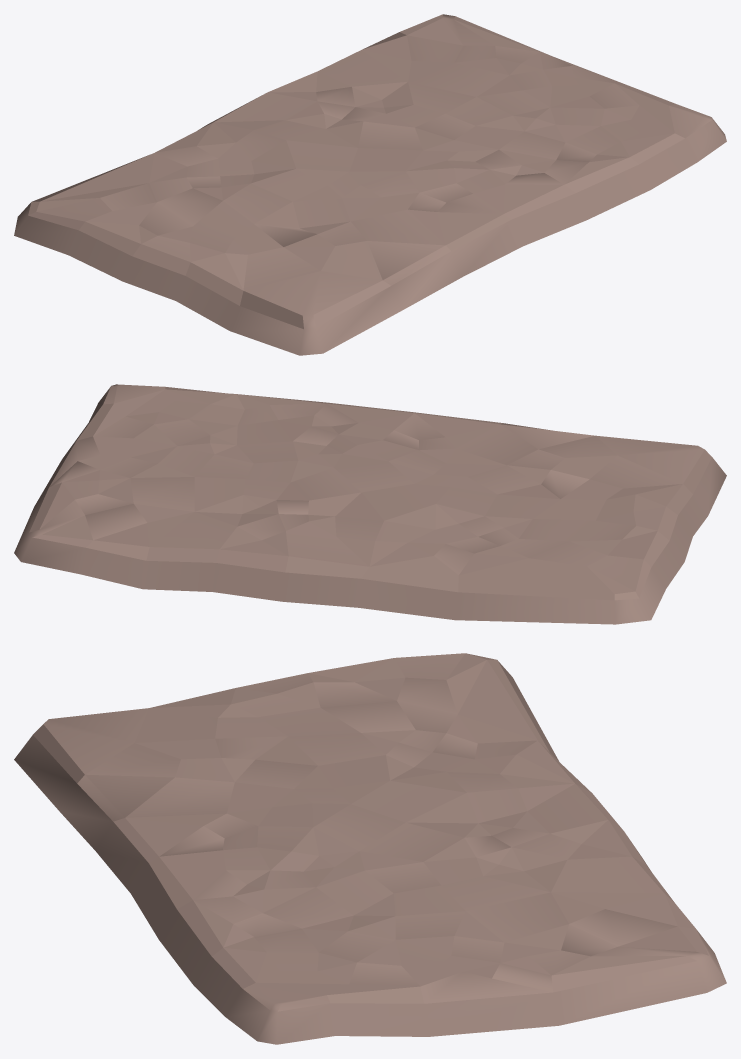
The model's file is landscape_001.glb.
3 renders of one model, top to bottom at view 1: azimuth 30°, elevation 25°; view 2: azimuth 150°, elevation 25°; view 3: azimuth 270°, elevation 25°, orthographic. The views are drawn at different scales.
Visible parts, largest first — view 1: landscape_001; view 2: landscape_001; view 3: landscape_001.
Part boxes in pixels (bbox=[...]): landscape_001: bbox=[14, 14, 726, 355]; landscape_001: bbox=[14, 384, 726, 624]; landscape_001: bbox=[14, 653, 726, 1044].
Size of the model in its own units: 11.12 by 0.7992 by 8.75.
1 material, 1 textured.
